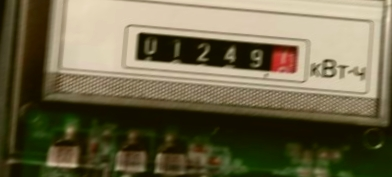0: (142, 35, 158, 56)
1: (169, 37, 183, 59)
2: (194, 40, 211, 64)
4: (223, 43, 237, 64)
7: (277, 45, 291, 66)
9: (248, 47, 263, 69)
screen: (119, 20, 313, 86)
